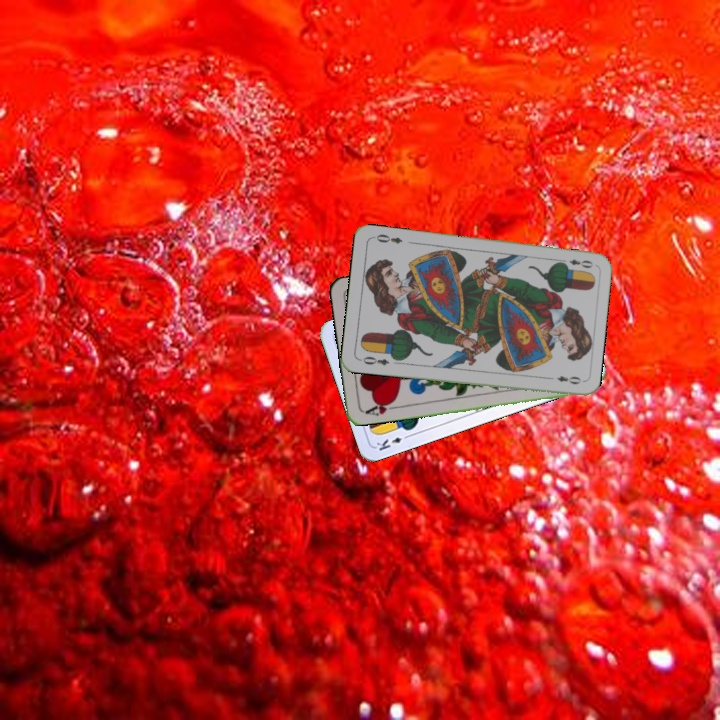EK: (372, 430, 413, 454)
EO: (556, 255, 595, 271), (356, 352, 392, 368)
HA: (360, 396, 401, 418)
